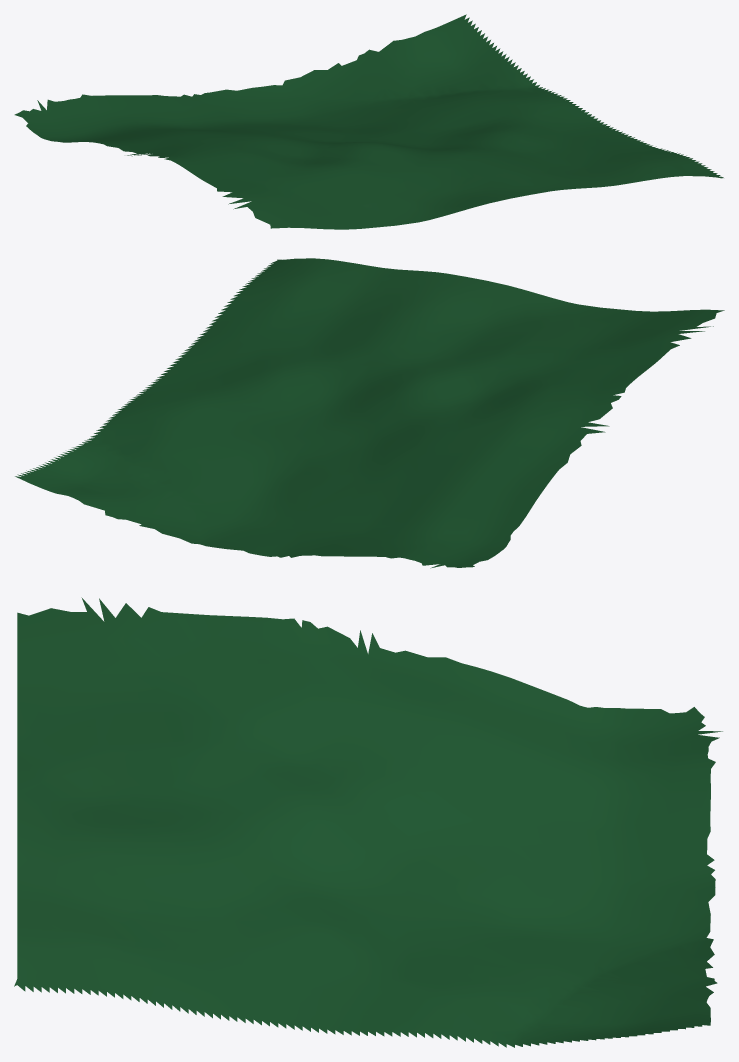
File: payo_land_xm4_y3_lod1.glb
3 views of the same model, one above another, from view 1: azimuth 30°, elevation 25°; view 2: azimuth 150°, elevation 25°; view 3: azimuth 270°, elevation 25° (orthographic). The views are drawn at different scales.
Parts seen in each view (by area): view 1: payo_land_xm4_y3; view 2: payo_land_xm4_y3; view 3: payo_land_xm4_y3.
Boxes of the visible parts, box(x1,y1,x2,y2) form: payo_land_xm4_y3: box(14, 14, 723, 229); payo_land_xm4_y3: box(15, 258, 724, 568); payo_land_xm4_y3: box(14, 597, 722, 1047).
Bounding box in the file's own units: 266 × 65.49 × 261.
